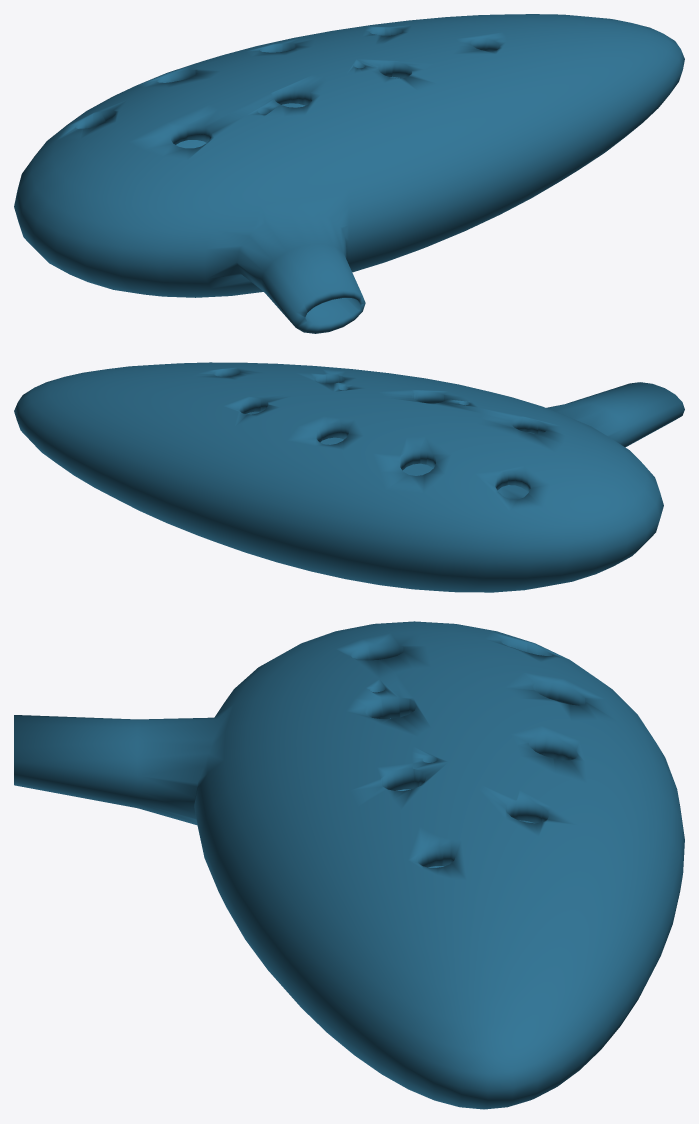
Rendered from A-NEW-20261026-OCARINA-001_LOD2_R5.fbx.
3 renders of one model, top to bottom at view 1: azimuth 30°, elevation 25°; view 2: azimuth 150°, elevation 25°; view 3: azimuth 270°, elevation 25°, orthographic. The views are drawn at different scales.
Parts seen in each view (by area): view 1: continuous ceramic body and mouthpiece; view 2: continuous ceramic body and mouthpiece; view 3: continuous ceramic body and mouthpiece.
Boxes of the visible parts, box(x1,y1,x2,y2) form: continuous ceramic body and mouthpiece: box(14, 14, 684, 333); continuous ceramic body and mouthpiece: box(14, 362, 684, 592); continuous ceramic body and mouthpiece: box(14, 621, 684, 1109).
Bounding box in the file's own units: 15.8 × 3.86 × 10.33.
